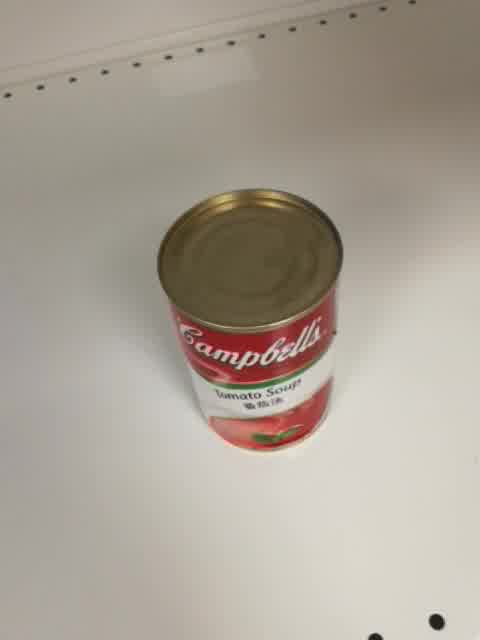tomatosoup: (154, 187, 344, 454)
